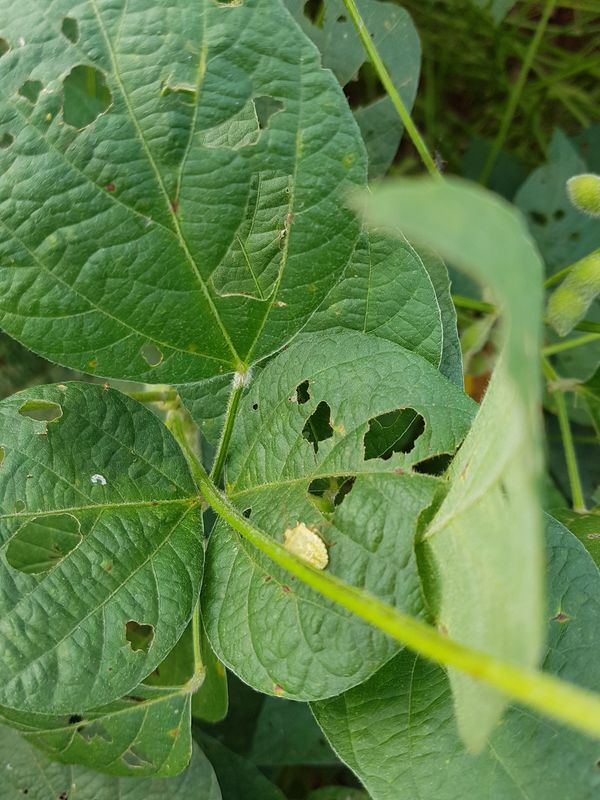Euschistus_heros_ninfa: (272, 514, 348, 579)
